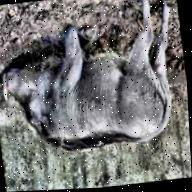boar: (0, 0, 191, 176)
